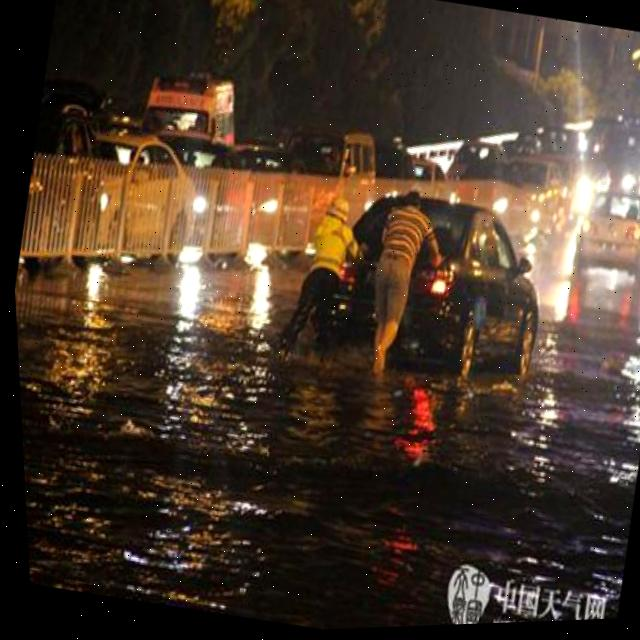civilian: (342, 177, 455, 397)
rescuer: (257, 177, 380, 372)
